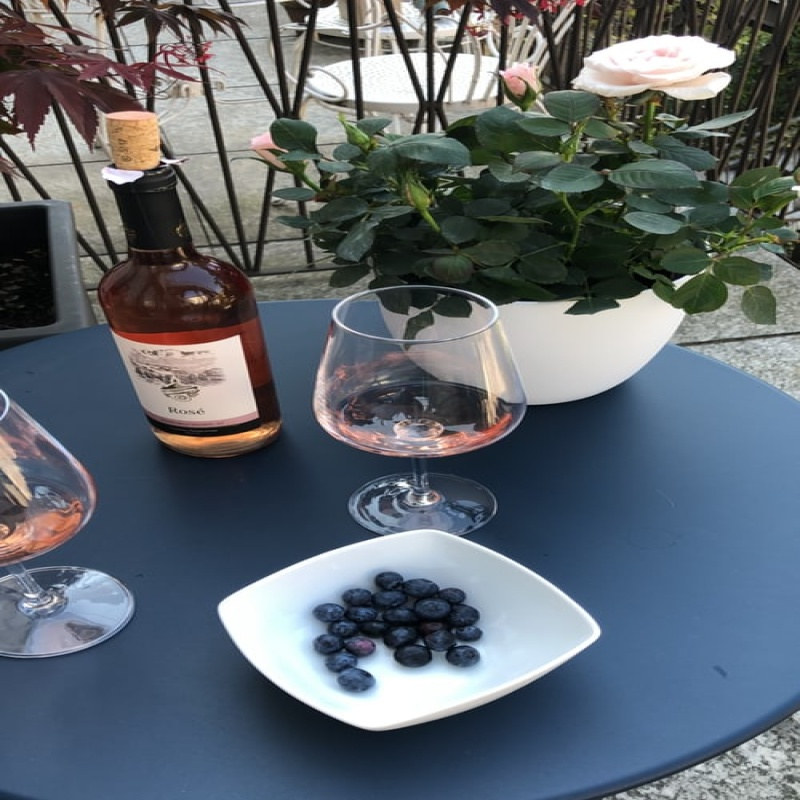wine: (98, 116, 278, 468)
